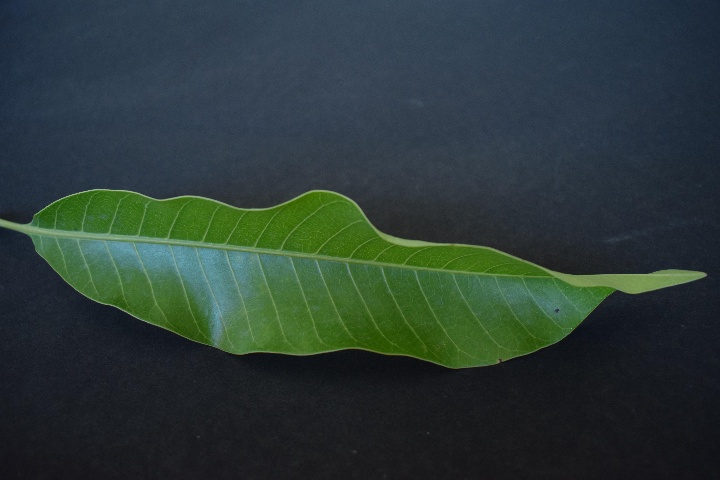healthy: (24, 171, 701, 378)
